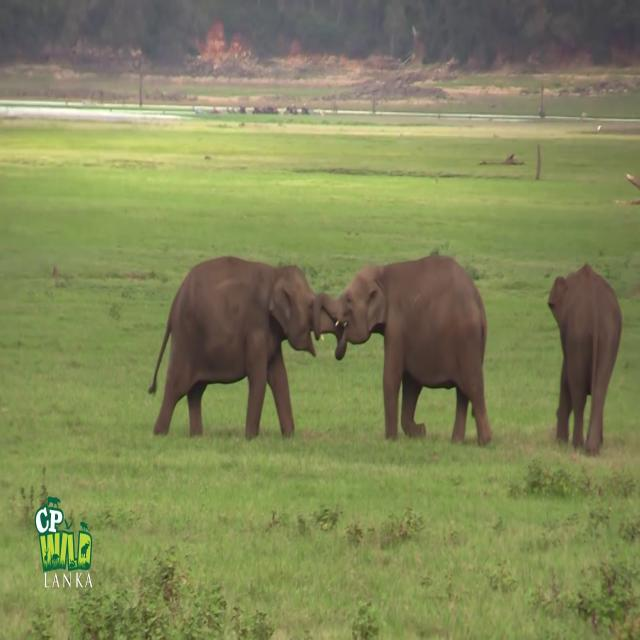Elephant: (147, 254, 345, 441), (314, 253, 493, 446), (548, 262, 622, 456)
